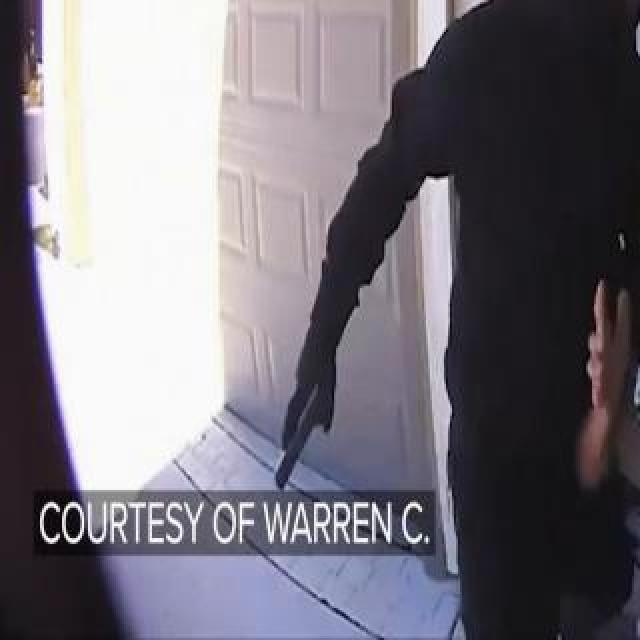Guns: (270, 372, 334, 491)
